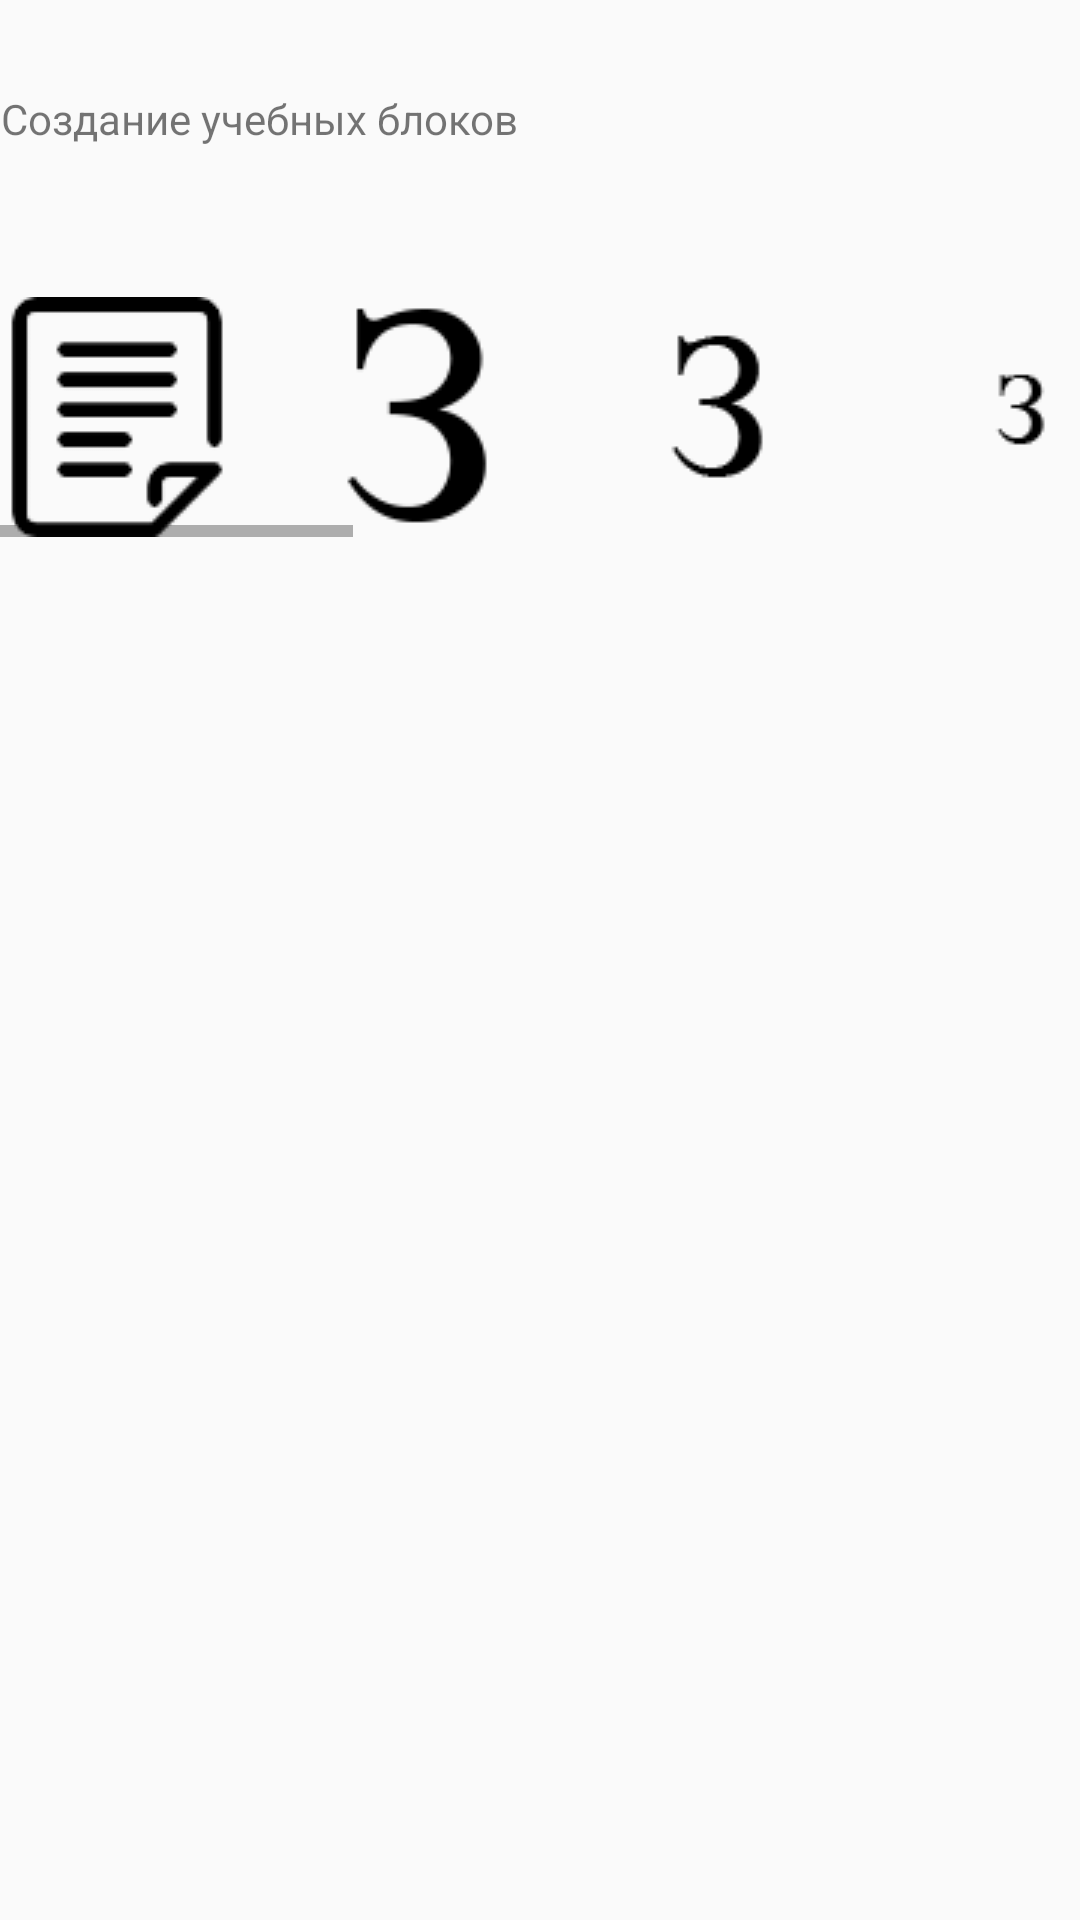

Screen size 1080*1920. Icon name, then its box in pixels as bbox=[x1, y1, x2, y2]:
text: bbox=[0, 297, 240, 537]
